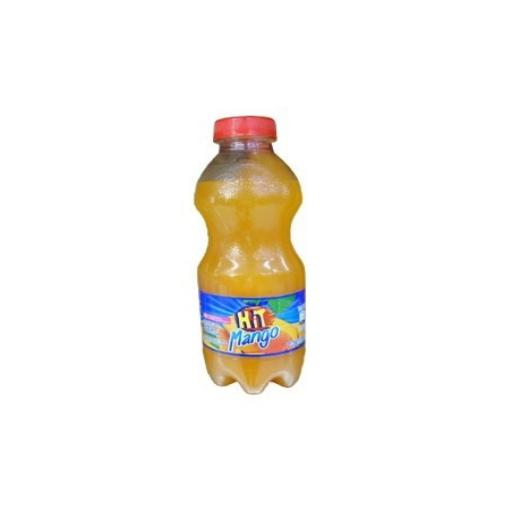JugoHM: (184, 103, 345, 398)
